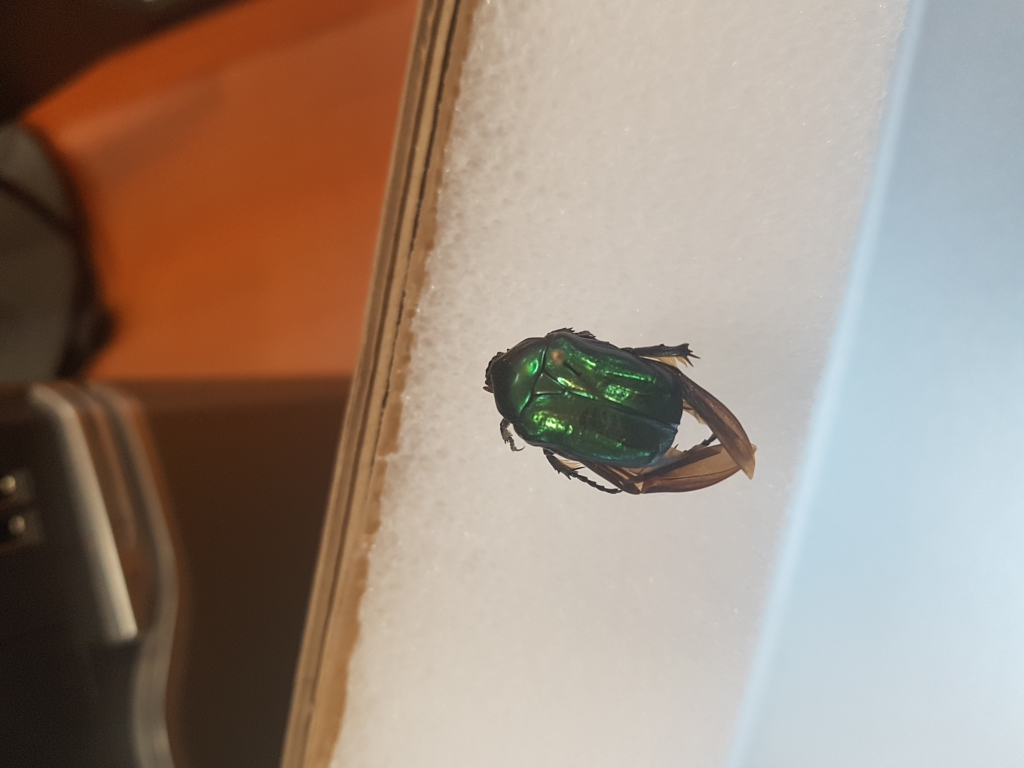Protaetia_angustata_angustata: (477, 324, 719, 494)
